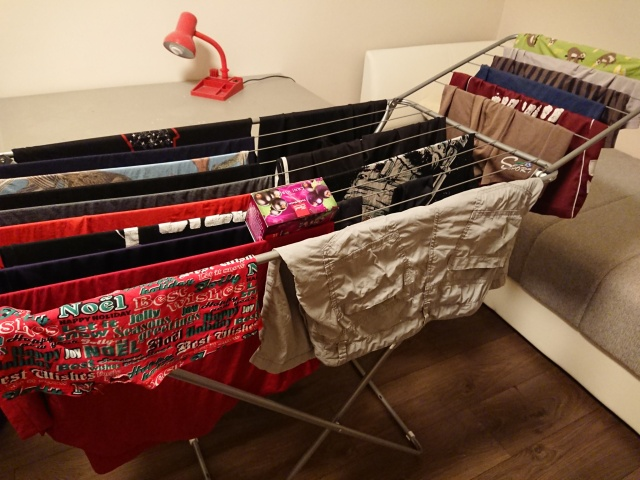Franck Black Currant Tea 60g: (242, 175, 341, 246)
